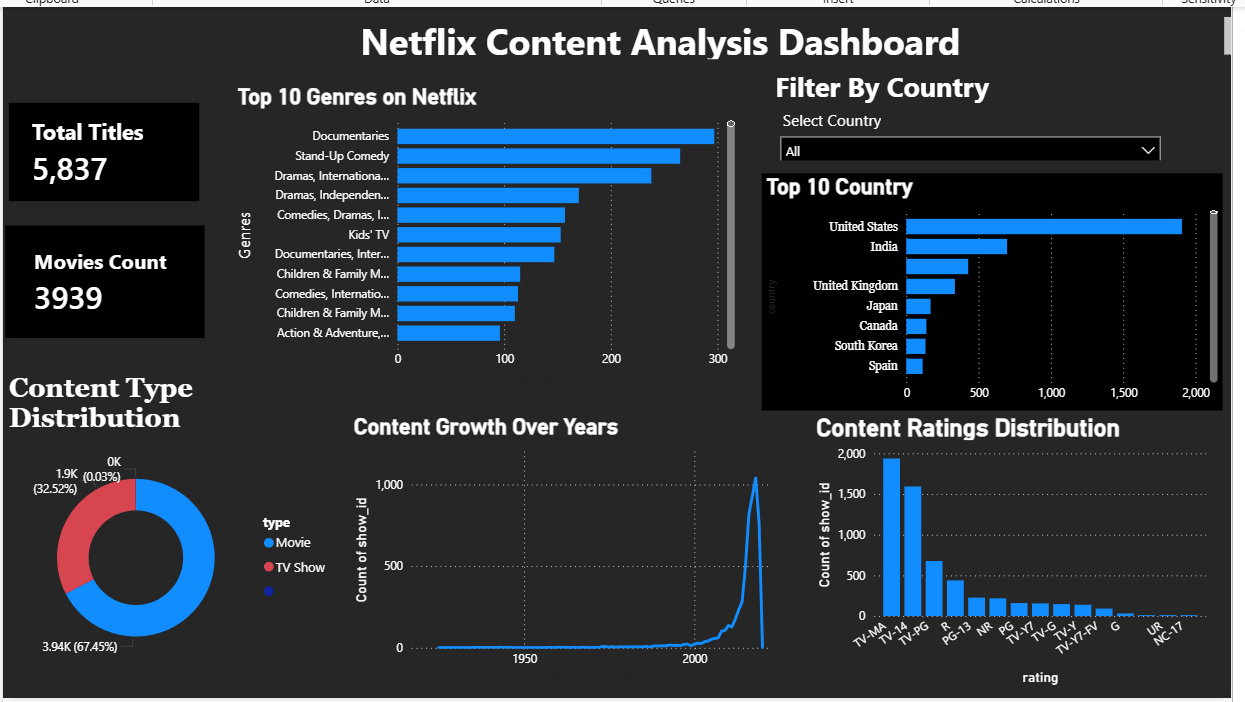

This screenshot's page, from the dashboard's own definition file:
{"tool":"powerbi","page":{"name":"Page 1","canvas":[1280,720],"ordinal":0},"visuals":[{"type":"cardVisual","fields":{"Data":["CountNonNull(netflix_titles (1).show_id)"]},"box":[2.4,228,207.5,117],"z":0},{"type":"donutChart","title":"Content Type Distribution","fields":{"Category":["netflix_titles (1).type"],"Y":["CountNonNull(netflix_titles (1).show_id)"]},"box":[1.2,380,348.7,323.3],"z":1000},{"type":"lineChart","title":"Content Growth Over Years","fields":{"Y":["CountNonNull(netflix_titles (1).show_id)"],"Category":["netflix_titles (1).release_year"]},"box":[360.7,423.5,448.8,288.3],"z":2000},{"type":"clusteredColumnChart","title":"Content Ratings Distribution","fields":{"Category":["netflix_titles (1).rating"],"Y":["CountNonNull(netflix_titles (1).show_id)"]},"box":[843.3,423.5,416.2,288.3],"z":3000},{"type":"slicer","title":" Filter By Country","fields":{"Values":["netflix_titles (1).country"]},"box":[800,64,416,96],"z":4000},{"type":"clusteredBarChart","title":"Top 10 Genres on Netflix","fields":{"Category":["netflix_titles (1).listed_in"],"Y":["CountNonNull(netflix_titles (1).show_id)"]},"box":[240,80,528,320],"z":5000},{"type":"textbox","box":[96,0,1184,64],"z":6000},{"type":"clusteredBarChart","title":"Top 10 Country","fields":{"Category":["netflix_titles (1).country"],"Y":["CountNonNull(netflix_titles (1).show_id)"]},"box":[790.2,173.7,480.2,247.3],"z":7000},{"type":"cardVisual","fields":{"Data":["CountNonNull(netflix_titles (1).show_id)"]},"box":[1.2,95.3,208.7,112.2],"z":8000}]}

Visuals, with their boxes on the page's 1280x720 design canvas (x1, y1, x2, y2). These are canvas units, not pixel positions in the 1245x702 screenshot, which may show the page scaled, cropped or inside an application window:
cardVisual - CountNonNull(netflix_titles (1).show_id): [2, 228, 210, 345]
"Content Type Distribution" donutChart: [1, 380, 350, 703]
"Content Growth Over Years" lineChart: [361, 424, 810, 712]
"Content Ratings Distribution" clusteredColumnChart: [843, 424, 1260, 712]
" Filter By Country" slicer: [800, 64, 1216, 160]
"Top 10 Genres on Netflix" clusteredBarChart: [240, 80, 768, 400]
textbox: [96, 0, 1280, 64]
"Top 10 Country" clusteredBarChart: [790, 174, 1270, 421]
cardVisual - CountNonNull(netflix_titles (1).show_id): [1, 95, 210, 208]
